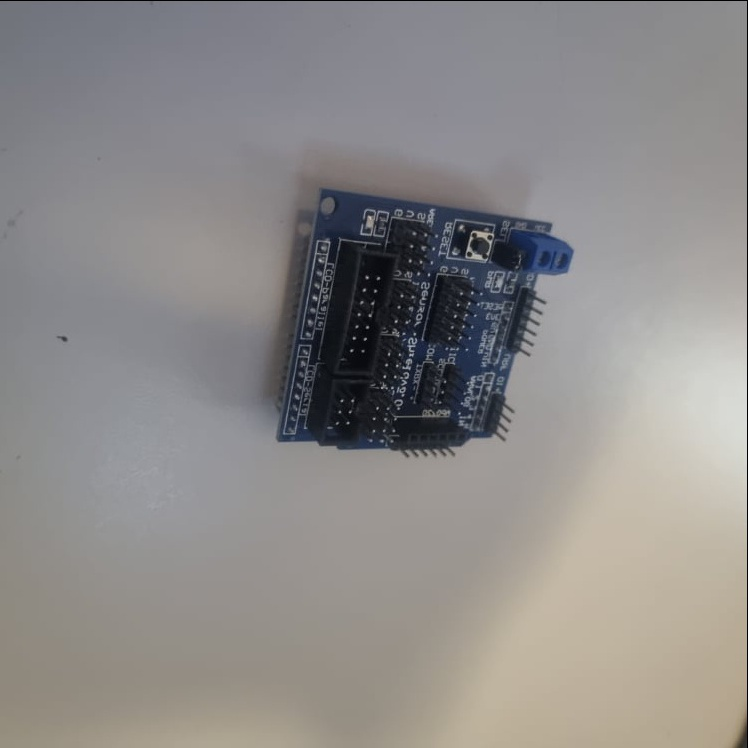5V EXPANSION: (273, 187, 580, 457)
